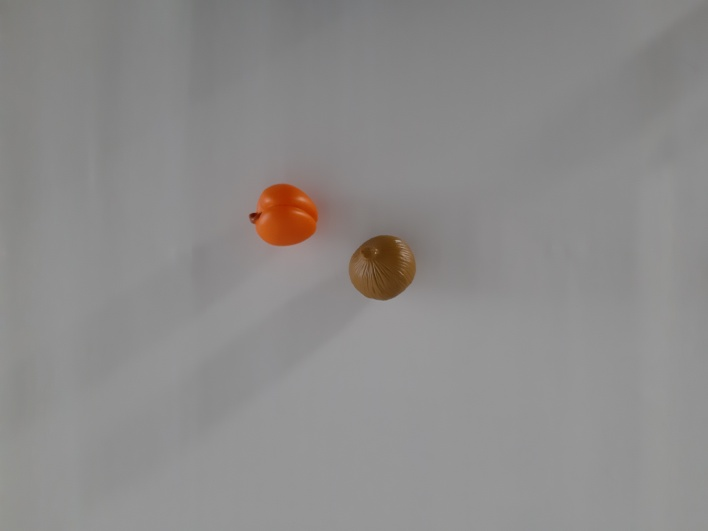apricot: (239, 176, 329, 253)
onion: (343, 226, 423, 305)
